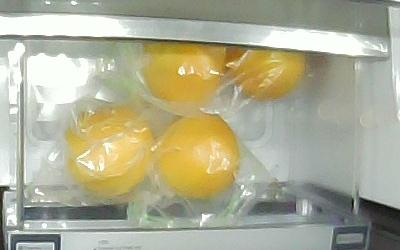grapefruit_vinyl: (64, 108, 155, 196), (156, 112, 240, 198), (142, 41, 226, 103), (226, 47, 306, 99)
